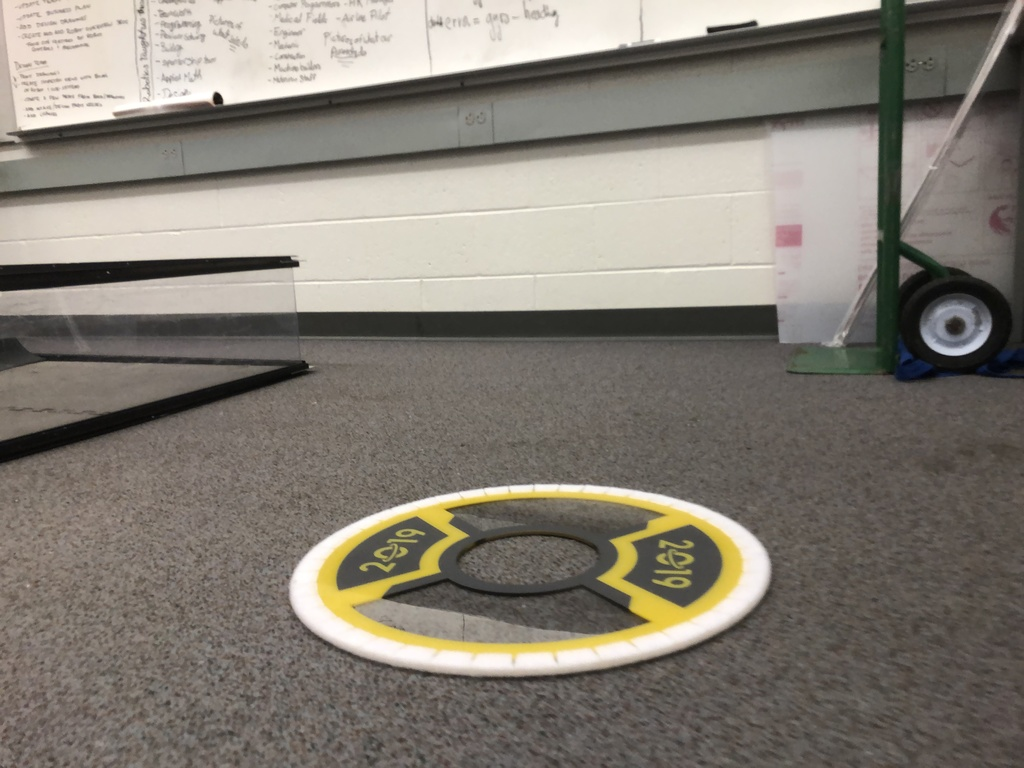hatch_panel: (281, 464, 783, 683)
